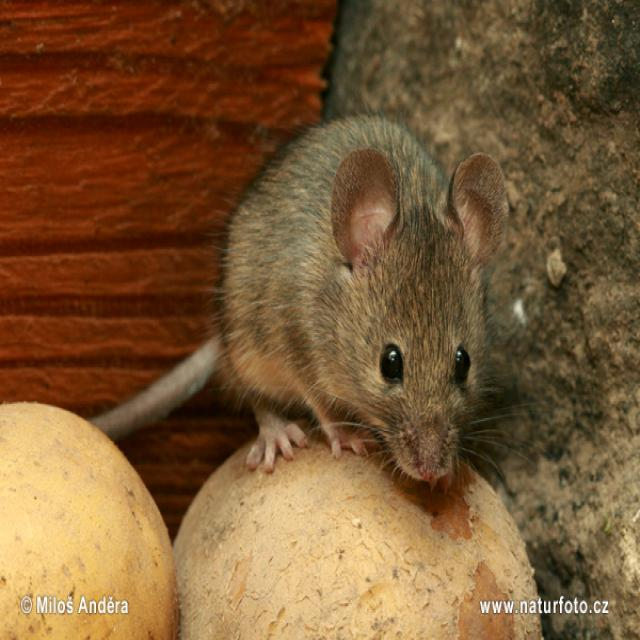rat: (164, 98, 516, 500)
